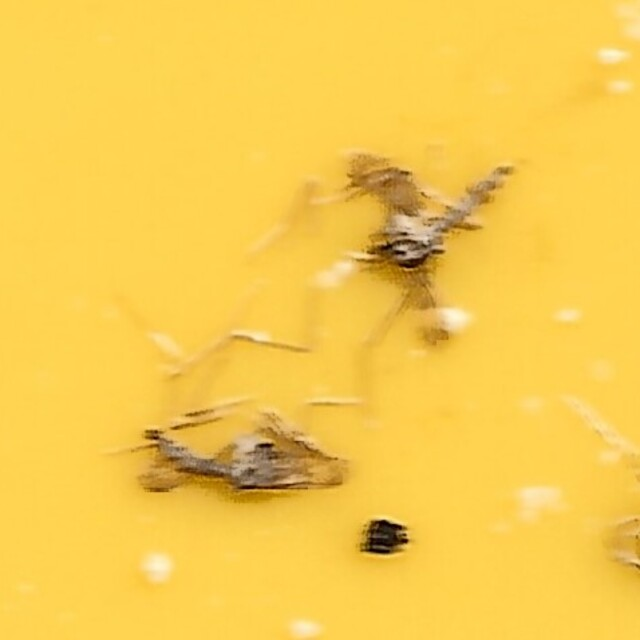Nematocera: (335, 138, 506, 354), (134, 415, 332, 502)
